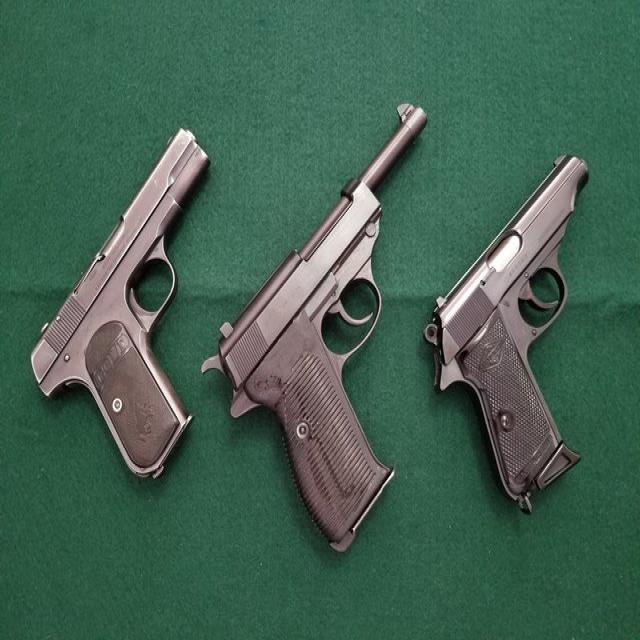HandGun: (201, 104, 428, 555), (30, 129, 212, 481), (423, 155, 590, 516)
